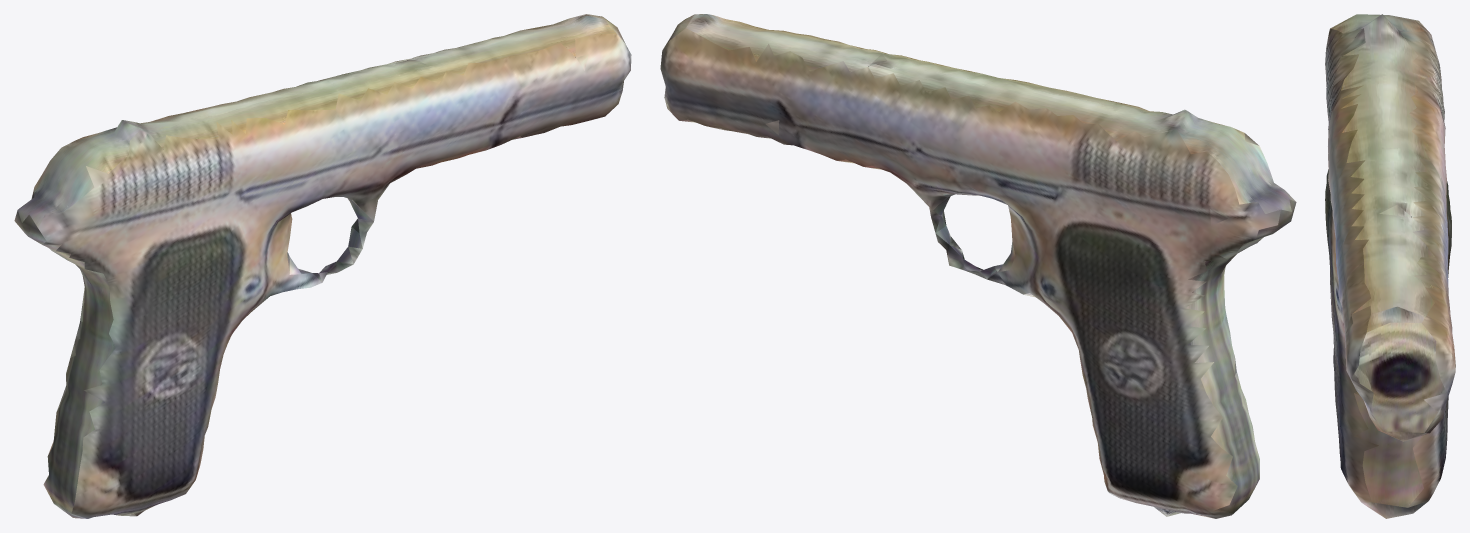
Rendered from pistol7-tt.glb.
The picture shows the model from 3 angles, left to right: view 1: azimuth 30°, elevation 25°; view 2: azimuth 150°, elevation 25°; view 3: azimuth 270°, elevation 25°; orthographic projection. The views are drawn at different scales.
Visible parts, largest first — view 1: geometry_0.030; view 2: geometry_0.030; view 3: geometry_0.030.
Part boxes in pixels (x1=…): geometry_0.030: x1=14, y1=14, x2=631, y2=518; geometry_0.030: x1=660, y1=14, x2=1296, y2=518; geometry_0.030: x1=1325, y1=14, x2=1455, y2=518.
Bounding box in the file's own units: 0.2327 × 0.148 × 0.0365.
1 material, 1 textured.
